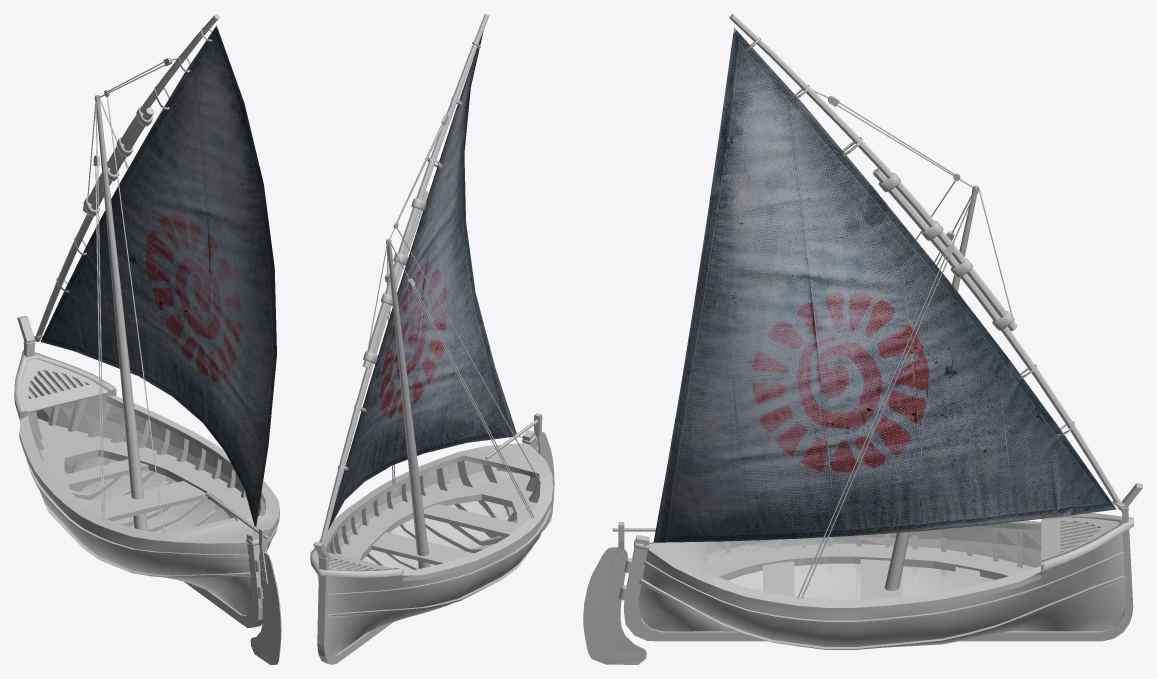
File: boat.FBX
The picture shows the model from 3 angles, left to right: view 1: azimuth 30°, elevation 25°; view 2: azimuth 150°, elevation 25°; view 3: azimuth 270°, elevation 25°; orthographic projection. The views are drawn at different scales.
Visible parts, largest first — view 1: sail, boat; view 2: boat, sail; view 3: sail, boat.
Boxes of the visible parts, box(x1,y1,x2,y2) form: sail: box(40, 25, 276, 526); boat: box(14, 14, 281, 664); boat: box(310, 14, 554, 664); sail: box(328, 31, 516, 529); sail: box(653, 27, 1116, 542); boat: box(583, 14, 1142, 664).
Bounding box in the file's own units: 213 × 548 × 706.
